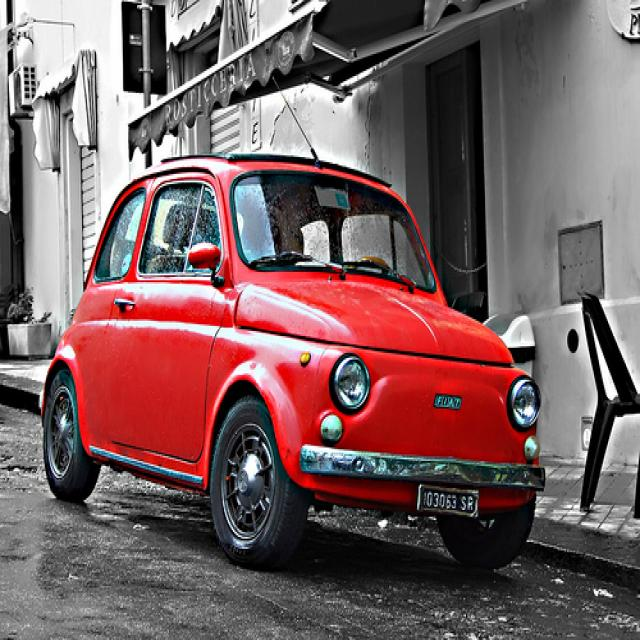Car: (37, 144, 543, 565)
